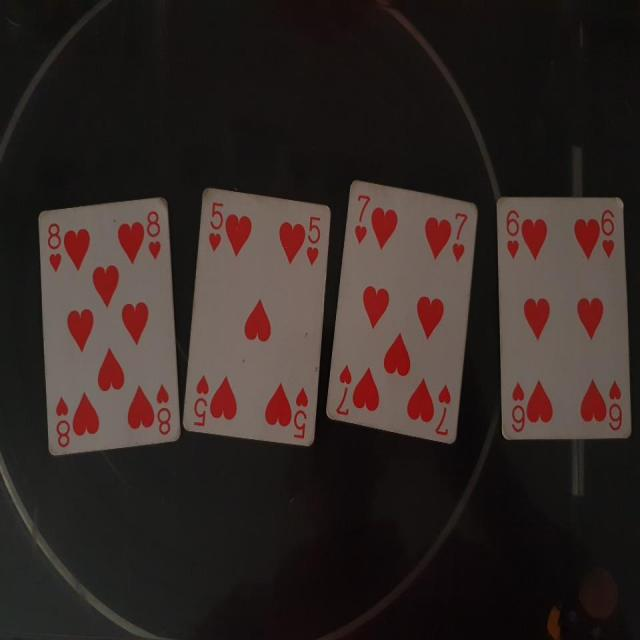5 Hearts: (178, 180, 339, 460)
6 Hearts: (486, 183, 635, 453)
7 Hearts: (321, 165, 480, 450)
8 Hearts: (35, 190, 181, 460)
